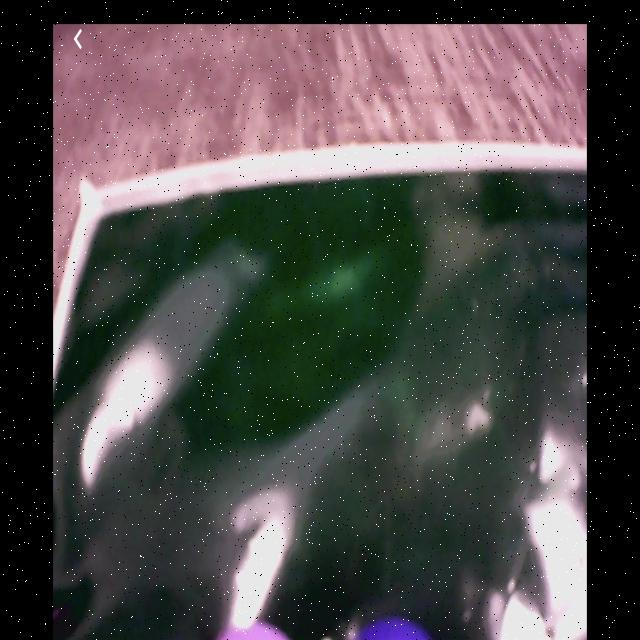ball: (357, 617, 440, 640), (216, 621, 289, 640)
